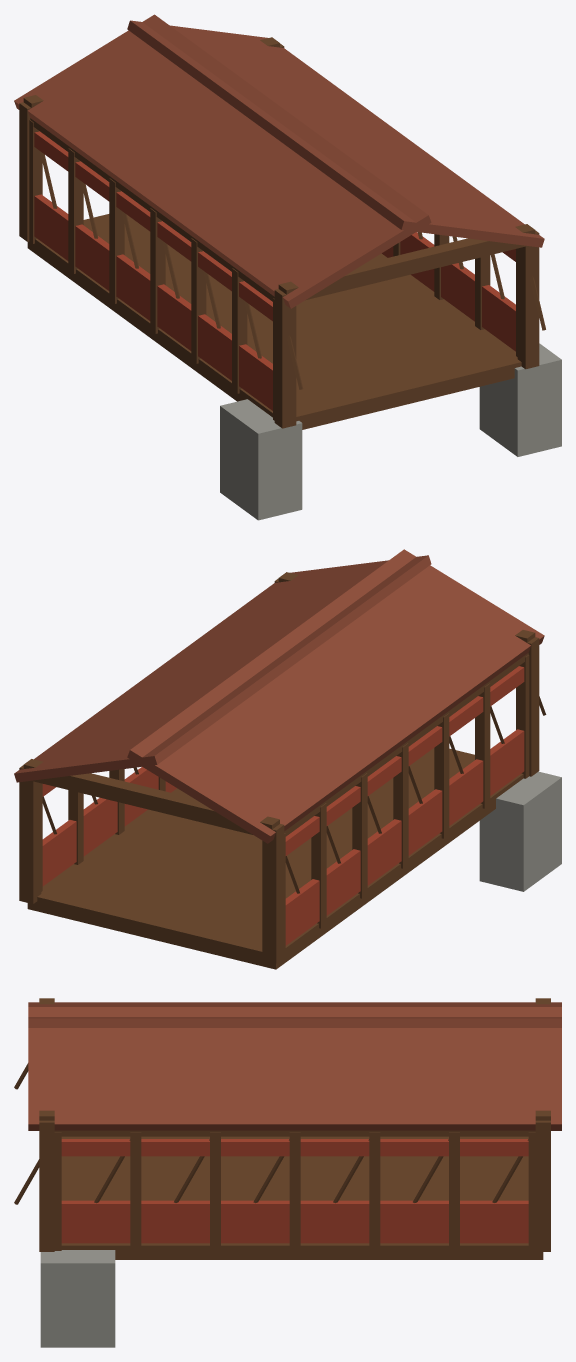
Rendered from covered-bridge.glb.
3 renders of one model, top to bottom at view 1: azimuth 30°, elevation 25°; view 2: azimuth 150°, elevation 25°; view 3: azimuth 270°, elevation 25°, orthographic. The views are drawn at different scales.
Parts seen in each view (by area): view 1: covered-bridge; view 2: covered-bridge; view 3: covered-bridge.
Part boxes in pixels (left/top/right/bottom): covered-bridge: left=14, top=14, right=561, bottom=520; covered-bridge: left=14, top=549, right=561, bottom=969; covered-bridge: left=14, top=998, right=561, bottom=1347.
Bounding box in the file's own units: 11 × 9.34 × 17.66.
